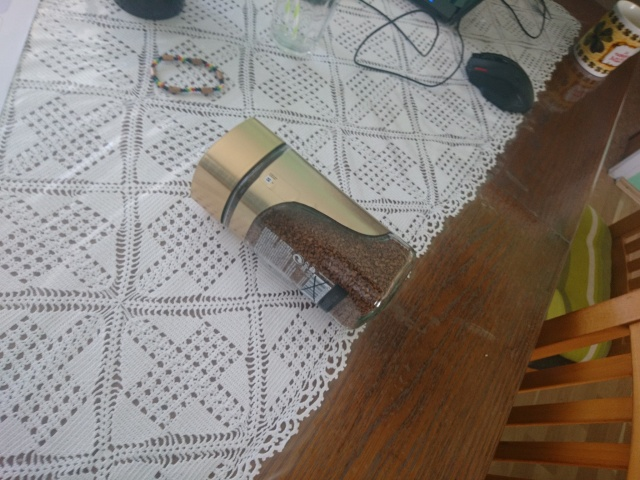Nescafe Gold 225g: (186, 114, 420, 333)
